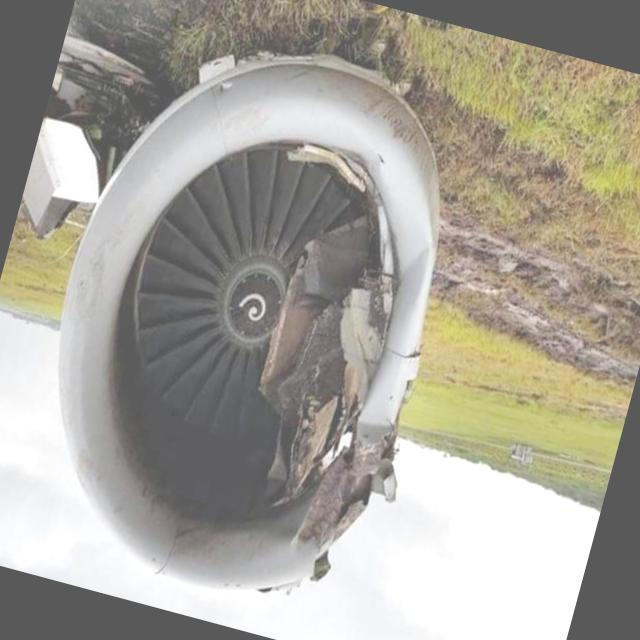crack: (267, 210, 394, 547), (42, 45, 167, 197)
dent: (376, 164, 461, 344), (348, 390, 406, 454)
